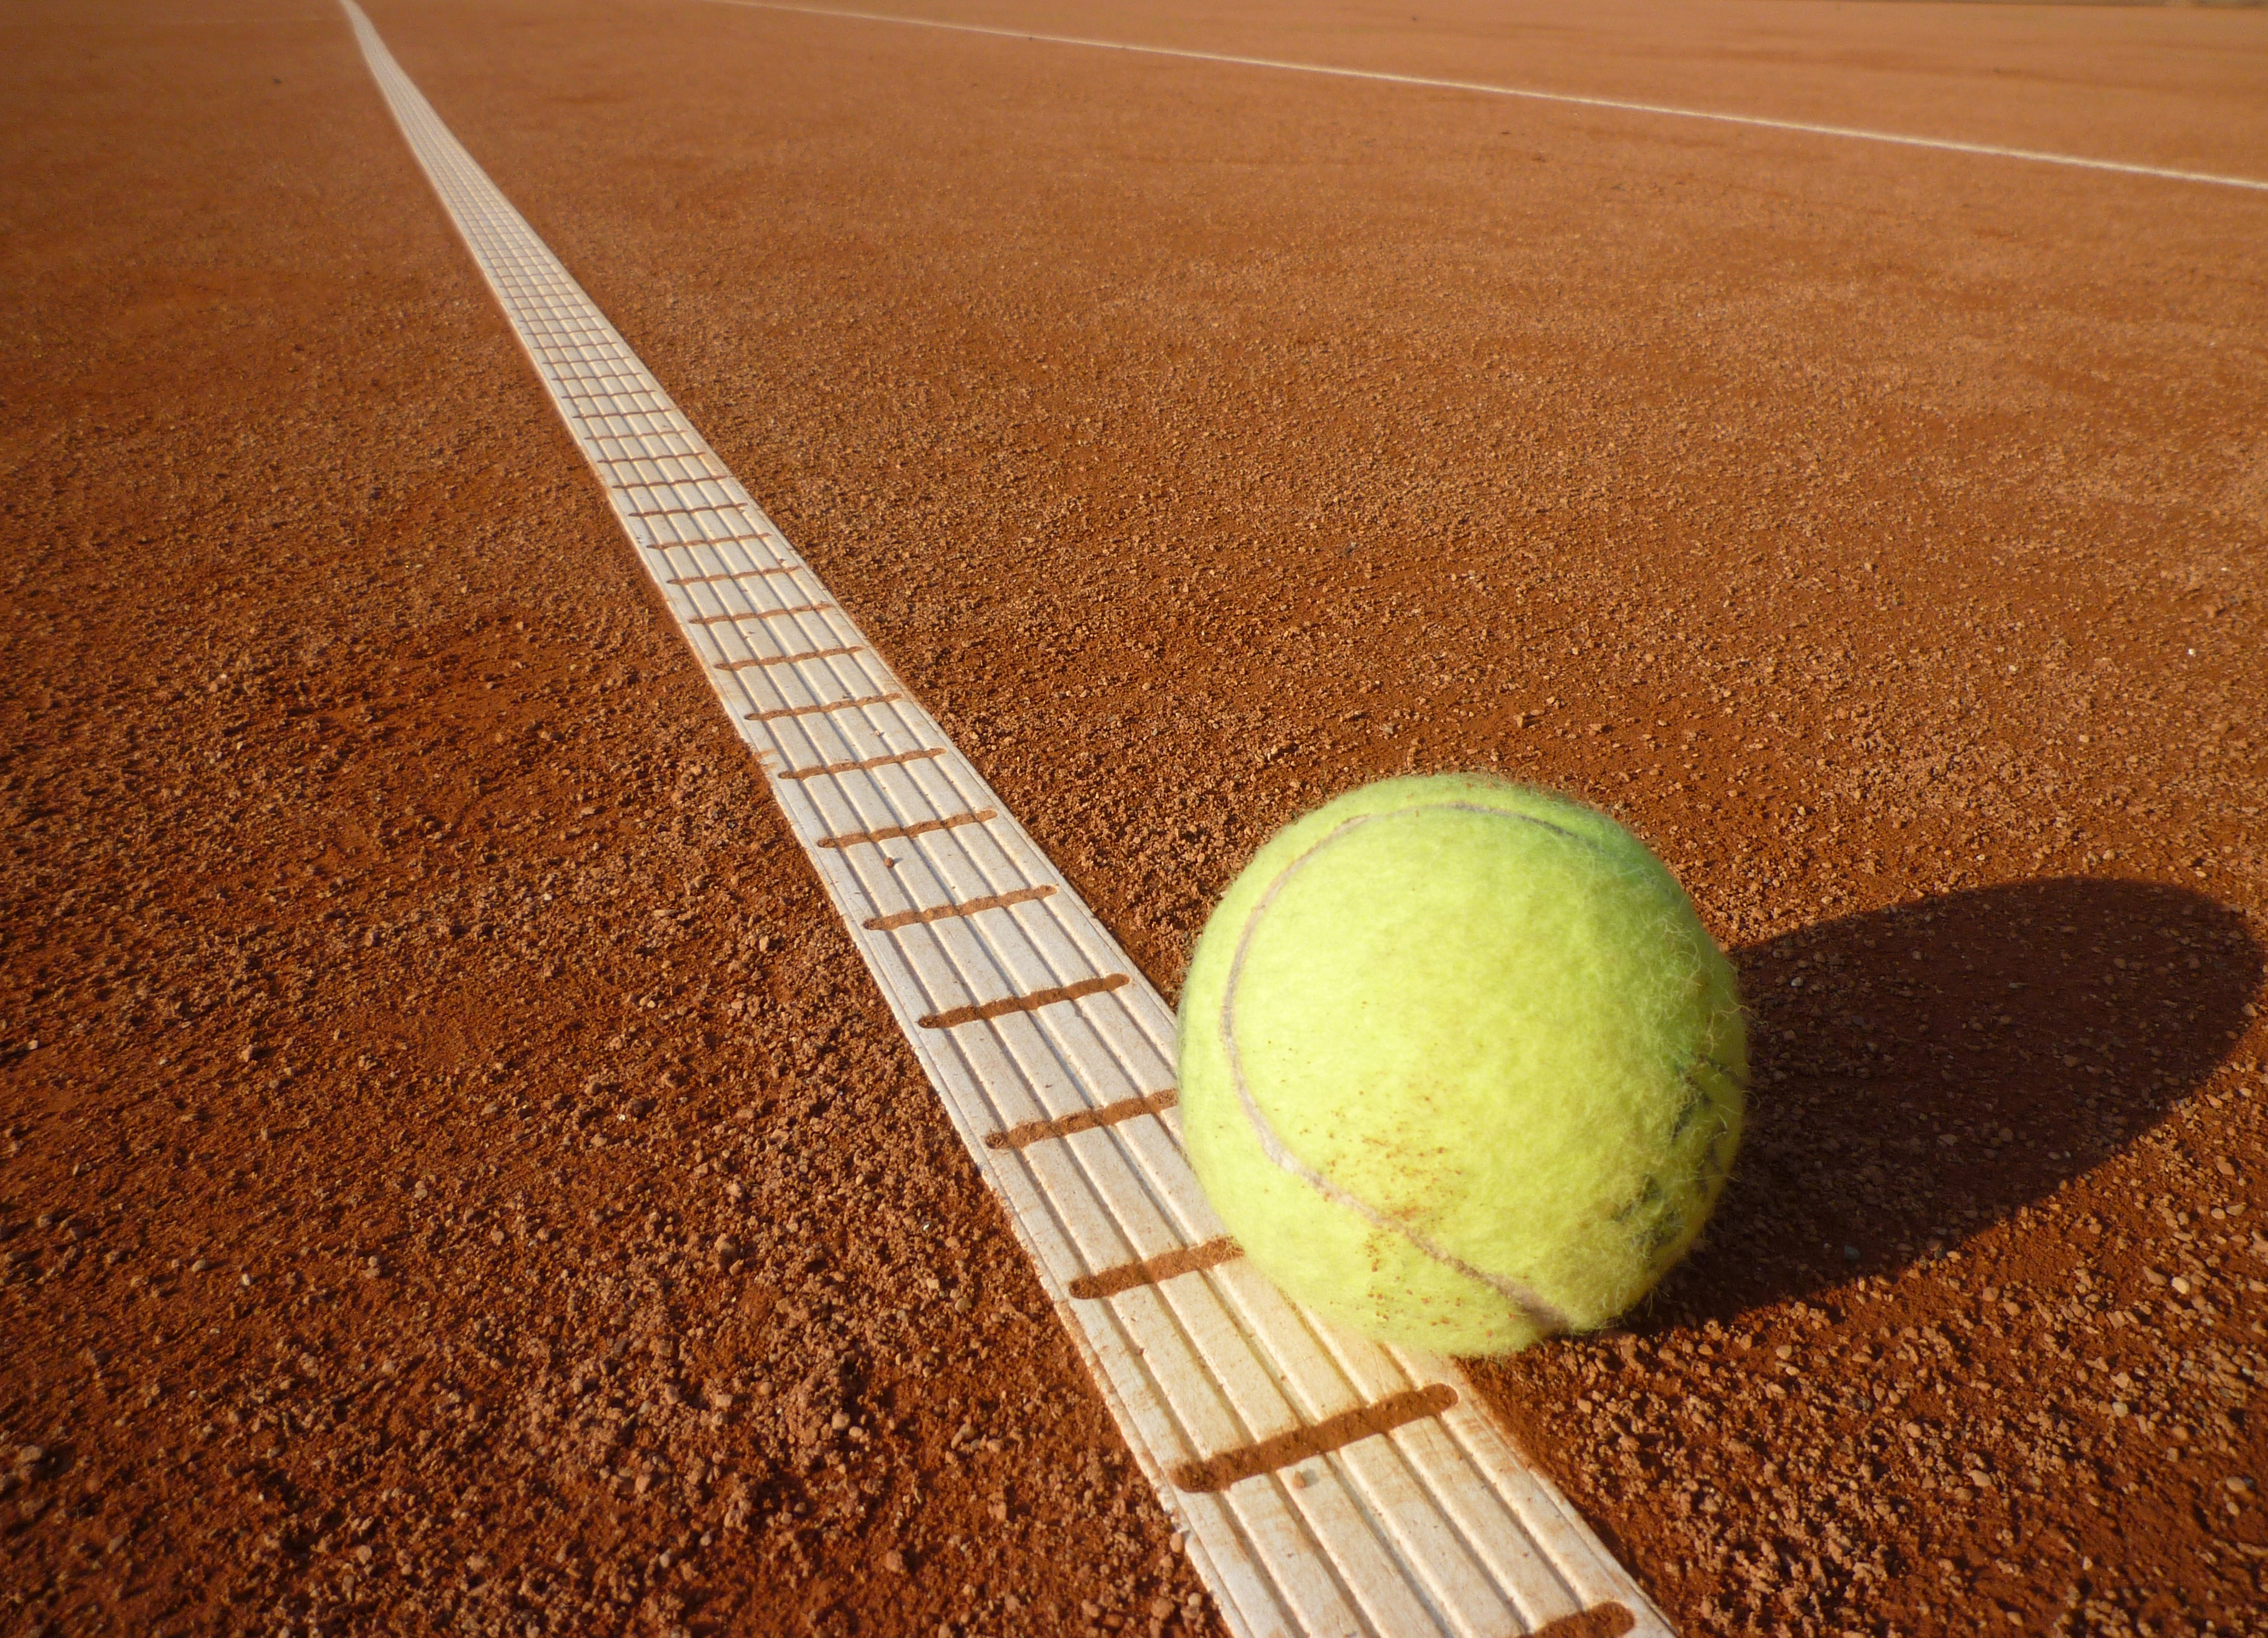tennis_ball: (1171, 759, 1747, 1374)
